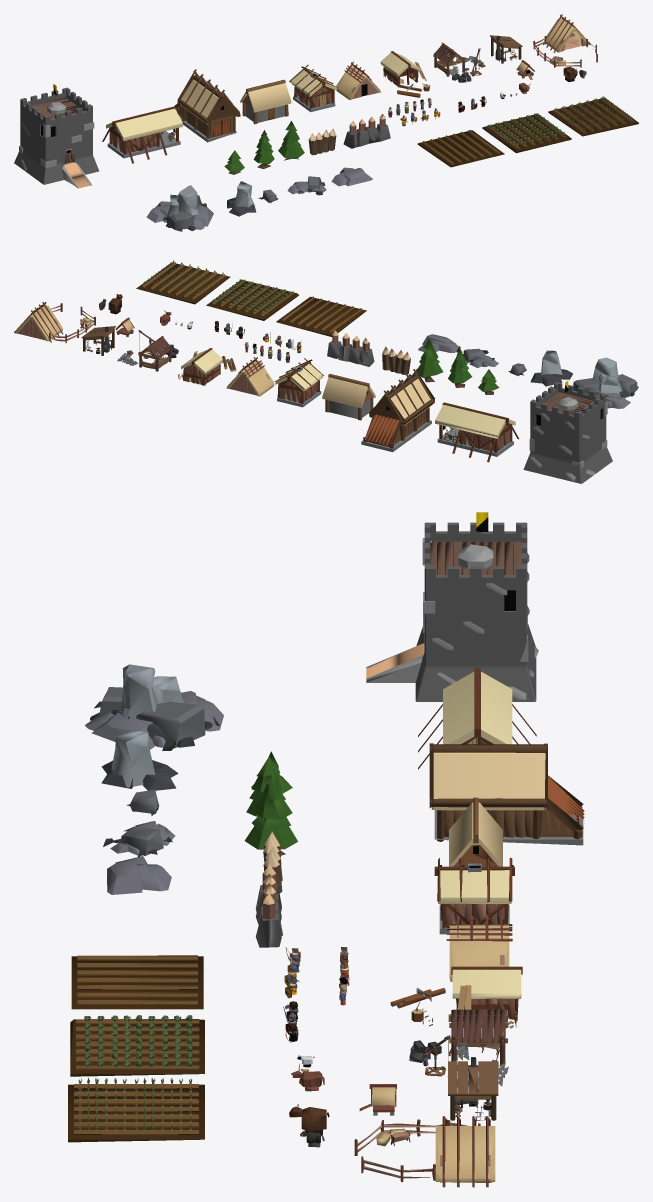
The model's file is medieval-village.glb.
The picture shows the model from 3 angles, top to bottom: view 1: azimuth 30°, elevation 25°; view 2: azimuth 150°, elevation 25°; view 3: azimuth 270°, elevation 25°; orthographic projection. The views are drawn at different scales.
Parts seen in each view (by area): view 1: Cylinder.000_Stone.003_0, Cylinder.000_Soil_0, Cylinder.000_TurnedSoil_0, Cylinder.000_Thatch.007_0, Cylinder.000_WoodBeam_0, Cylinder.000_Thatch.005_0, Cylinder.000_Stone.004_0, Cylinder.000_Thatch_0, Cylinder.000_Material_0, Cylinder.000_WoodBark.007_0, Cylinder.000_Stone02_0, Cylinder.000_WoodWall.004_0 (+19 smaller); view 2: Cylinder.000_Stone.003_0, Cylinder.000_Soil_0, Cylinder.000_TurnedSoil_0, Cylinder.000_Thatch.007_0, Cylinder.000_Thatch.005_0, Cylinder.000_WoodBeam_0, Cylinder.000_Thatch_0, Cylinder.000_WoodWall.004_0, Cylinder.000_Material_0, Cylinder.000_WoodBark.007_0, Cylinder.000_Stone02_0, Cylinder.000_Stone.004_0 (+18 smaller); view 3: Cylinder.000_Stone.003_0, Cylinder.000_TurnedSoil_0, Cylinder.000_Soil_0, Cylinder.000_Thatch.007_0, Cylinder.000_Thatch.005_0, Cylinder.000_Thatch_0, Cylinder.000_Stone.004_0, Cylinder.000_Stone02_0, Cylinder.000_Material_0, Cylinder.000_Rock_0, Cylinder.000_WoodBark.007_0, Cylinder.000_Stone02.001_0 (+12 smaller).
Boxes of the visible parts, x1,y1,x2,y2 form: Cylinder.000_Stone.003_0: [14, 87, 98, 184]; Cylinder.000_Soil_0: [417, 97, 638, 167]; Cylinder.000_TurnedSoil_0: [422, 97, 634, 164]; Cylinder.000_Thatch.007_0: [106, 52, 420, 141]; Cylinder.000_WoodBeam_0: [102, 51, 418, 163]; Cylinder.000_Thatch.005_0: [180, 79, 291, 124]; Cylinder.000_Stone.004_0: [146, 167, 372, 229]; Cylinder.000_Thatch_0: [336, 18, 589, 99]; Cylinder.000_Material_0: [489, 96, 632, 145]; Cylinder.000_WoodBark.007_0: [174, 75, 240, 138]; Cylinder.000_Stone02_0: [166, 181, 254, 222]; Cylinder.000_WoodWall.004_0: [111, 67, 427, 153]; Cylinder.000_Stone.003_0: [523, 382, 612, 483]; Cylinder.000_Soil_0: [136, 262, 366, 336]; Cylinder.000_TurnedSoil_0: [141, 262, 362, 333]; Cylinder.000_Thatch.007_0: [181, 349, 515, 438]; Cylinder.000_Thatch.005_0: [322, 377, 432, 425]; Cylinder.000_WoodBeam_0: [183, 348, 518, 462]; Cylinder.000_Thatch_0: [15, 305, 274, 396]; Cylinder.000_WoodWall.004_0: [184, 365, 510, 451]; Cylinder.000_Material_0: [143, 260, 291, 313]; Cylinder.000_WoodBark.007_0: [363, 374, 434, 448]; Cylinder.000_Stone02_0: [541, 350, 622, 393]; Cylinder.000_Stone.004_0: [418, 334, 630, 408]; Cylinder.000_Stone.003_0: [415, 522, 536, 701]; Cylinder.000_TurnedSoil_0: [74, 955, 199, 1134]; Cylinder.000_Soil_0: [68, 956, 204, 1142]; Cylinder.000_Thatch.007_0: [438, 671, 521, 998]; Cylinder.000_Thatch.005_0: [431, 752, 545, 866]; Cylinder.000_Thatch_0: [372, 925, 509, 1182]; Cylinder.000_Stone.004_0: [85, 691, 223, 894]; Cylinder.000_Stone02_0: [111, 664, 184, 787]; Cylinder.000_Material_0: [78, 1015, 192, 1130]; Cylinder.000_Rock_0: [99, 687, 205, 855]; Cylinder.000_WoodBark.007_0: [429, 743, 583, 841]; Cylinder.000_Stone02.001_0: [366, 538, 538, 699].
Size of the model in its own units: 3.88 by 0.5674 by 1.57.
